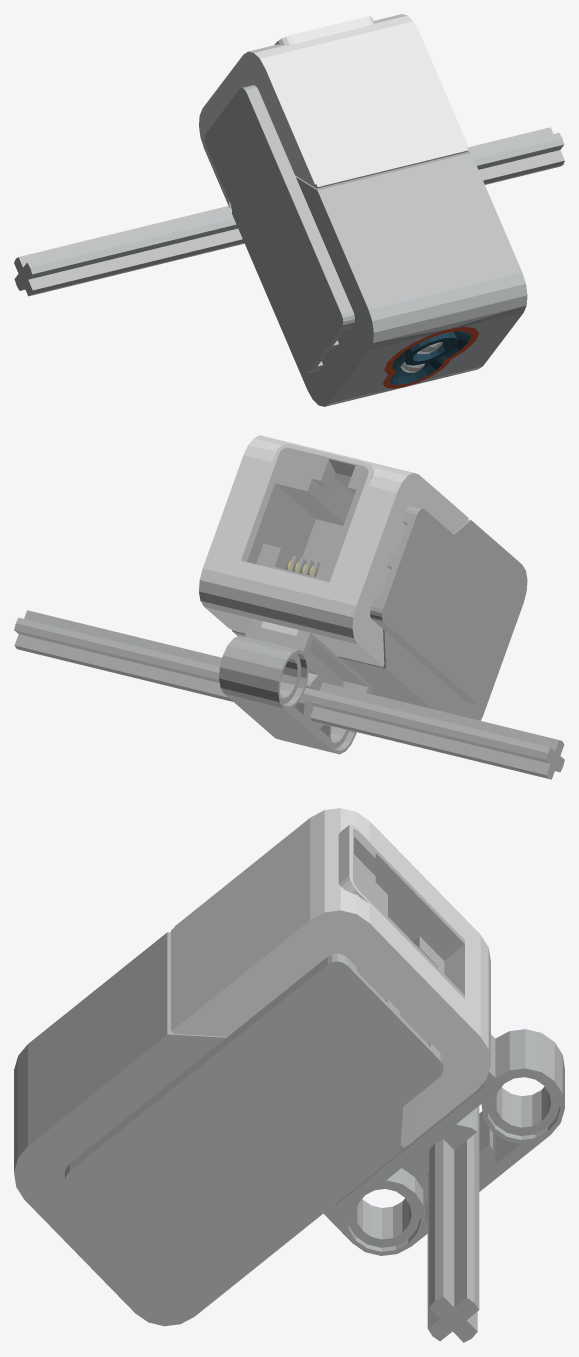
File: hackev_color.dae
The picture shows the model from 3 angles, top to bottom: view 1: azimuth 30°, elevation 25°; view 2: azimuth 150°, elevation 25°; view 3: azimuth 270°, elevation 25°; orthographic projection. The views are drawn at different scales.
Parts seen in each view (by area): view 1: Piece016, Piece018; view 2: Piece016, Piece018; view 3: Piece016, Piece018.
Boxes of the visible parts, x1=… form: Piece016: x1=199, y1=14, x2=527, y2=406; Piece018: x1=14, y1=127, x2=564, y2=296; Piece016: x1=199, y1=435, x2=527, y2=754; Piece018: x1=14, y1=610, x2=564, y2=779; Piece016: x1=14, y1=808, x2=564, y2=1326; Piece018: x1=427, y1=1106, x2=479, y2=1342.
Bounding box in the file's own units: 0.072 × 0.0474 × 0.0402.
